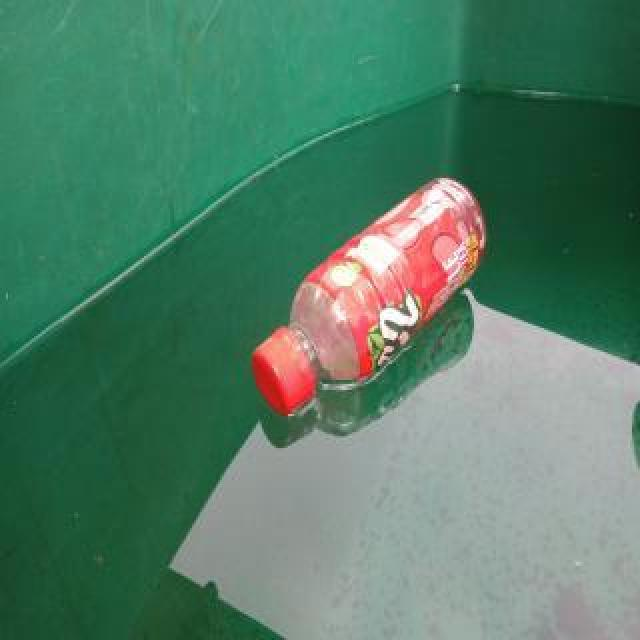bottle: (247, 174, 489, 420)
